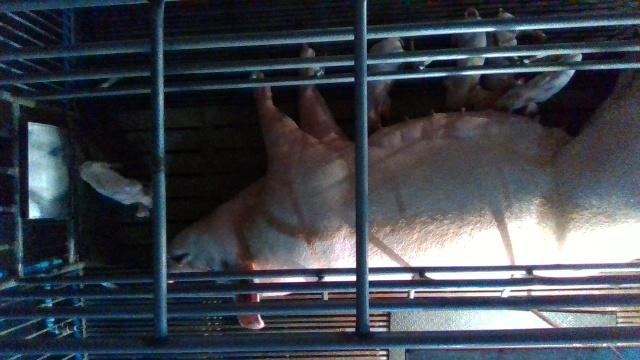piglet: (495, 55, 582, 113), (442, 8, 488, 109), (78, 159, 152, 219), (367, 35, 402, 127), (490, 8, 520, 88)
sow-sleep-lactate: (166, 48, 640, 330)
